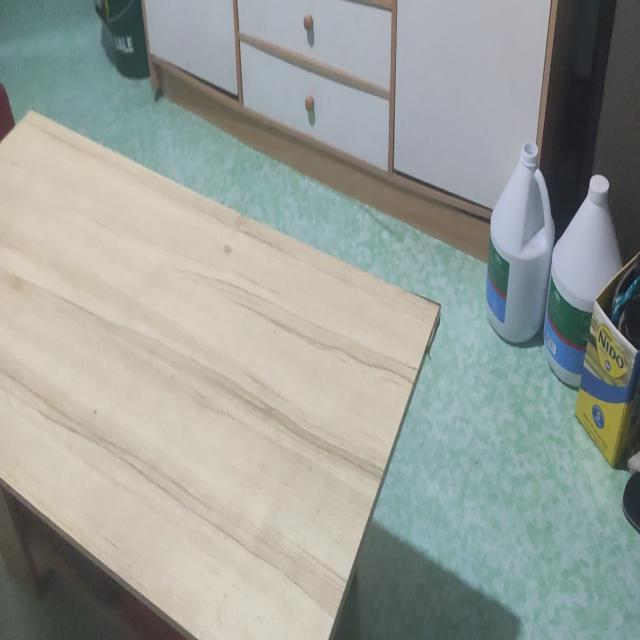table: (0, 105, 430, 640)
